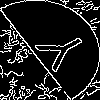Y: (25, 25, 91, 79)
